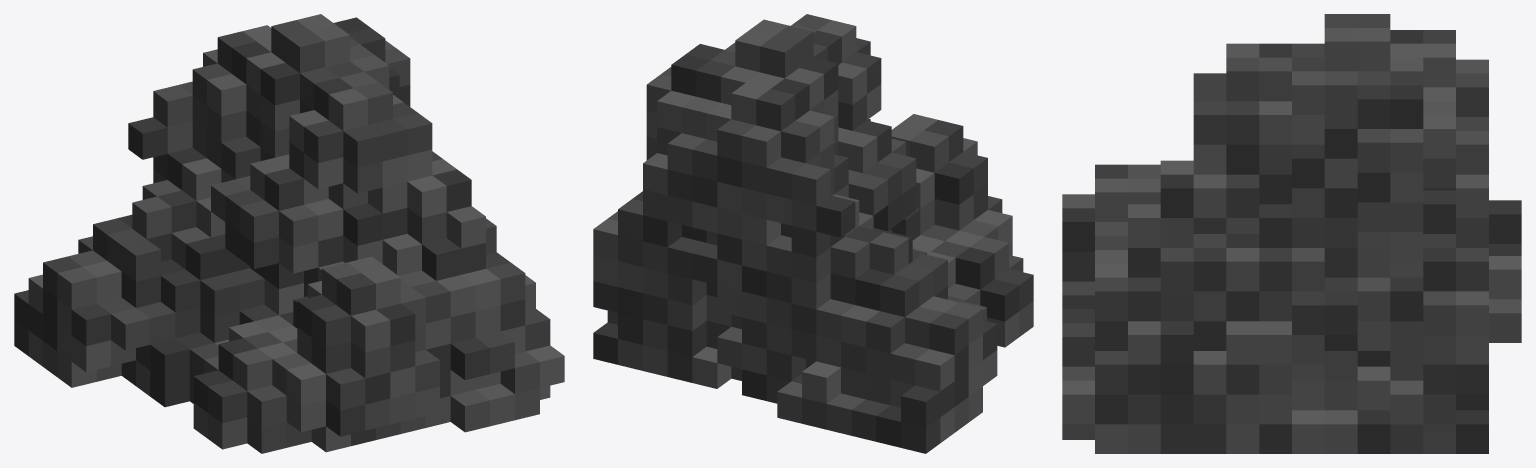
The model's file is rock.obj.
3 renders of one model, left to right at view 1: azimuth 30°, elevation 25°; view 2: azimuth 150°, elevation 25°; view 3: azimuth 270°, elevation 25°, orthographic. The views are drawn at different scales.
Size of the model in its own units: 14 by 12 by 14.
Materials: 1 (1 with a texture image).
